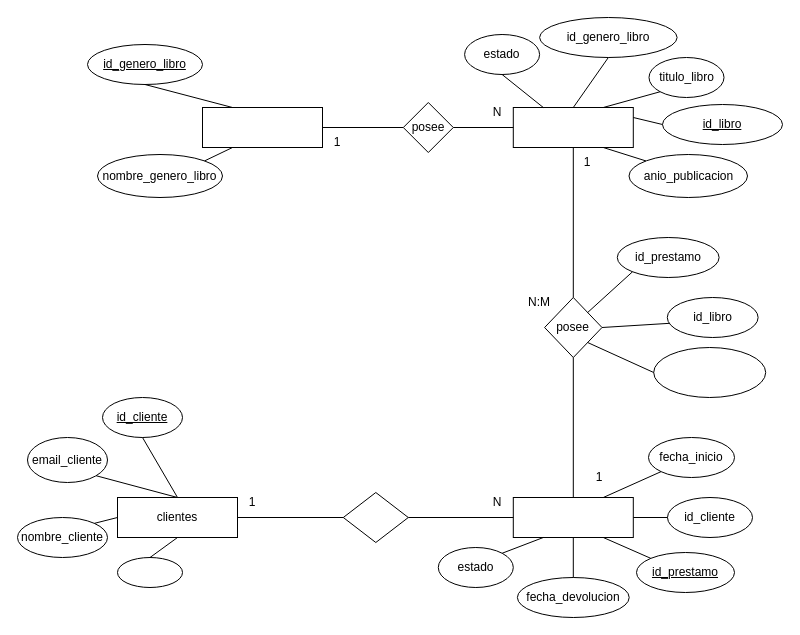
This 800x635 diagram has some shape labels left out. The shapes that lost their labels are listed below. From the top down, each one's centre as x and y in pixels, then its label:
the point at 262,127: generos_libros
the point at 572,127: libros
the point at 709,372: id_detalle prestamo
the point at 375,517: realizan
the point at 572,517: prestamos
the point at 149,572: telefono
